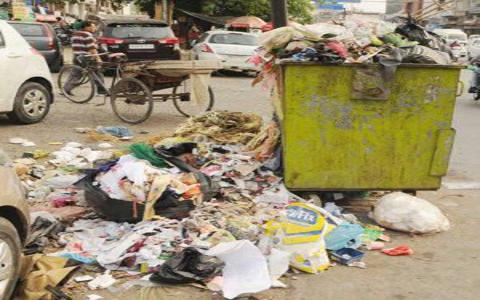overflowing garbage: (232, 17, 465, 280)
